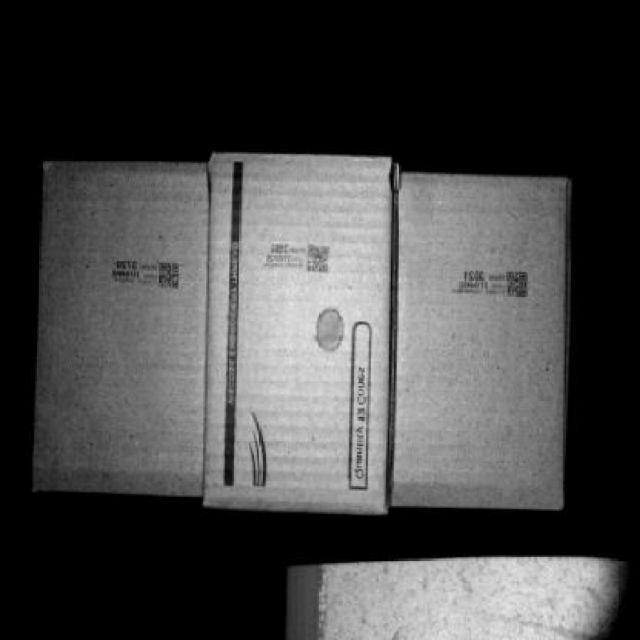cardboxes: (202, 153, 390, 512), (32, 161, 206, 496), (391, 177, 567, 506)
